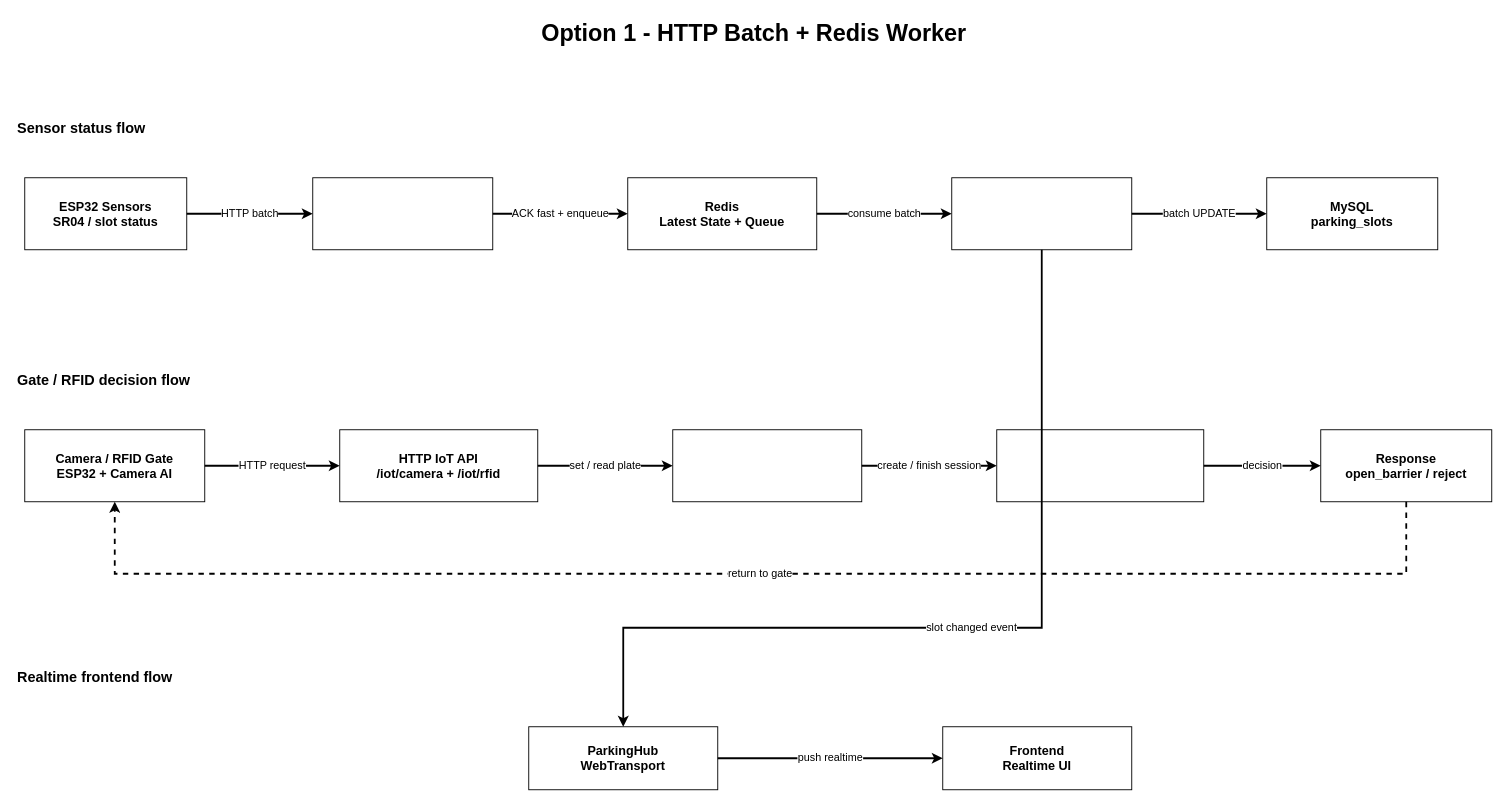
This 1508x806 diagram has some shape labels left out. Here are the shapes that lost their labels. From the top down, the centre of each, then its label:
the point at 402,213: HTTP Batch API POST /sensor/batch
the point at 1041,213: Sensor Worker filter + batch
the point at 767,465: Redis PlateCache TTL + shared cache
the point at 1100,465: MySQL parking_session / wallet
